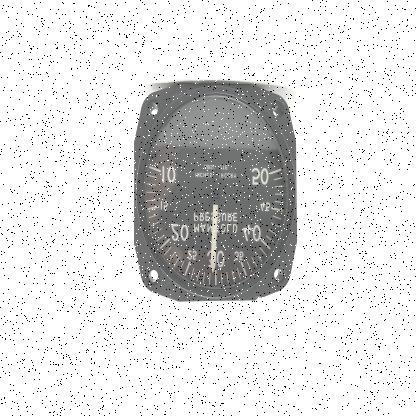needle: (211, 198, 219, 274)
